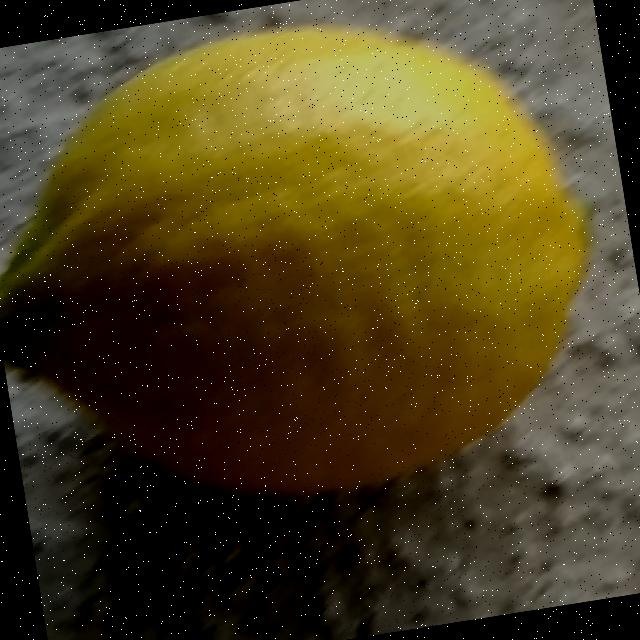Lemon: (0, 0, 621, 545)
